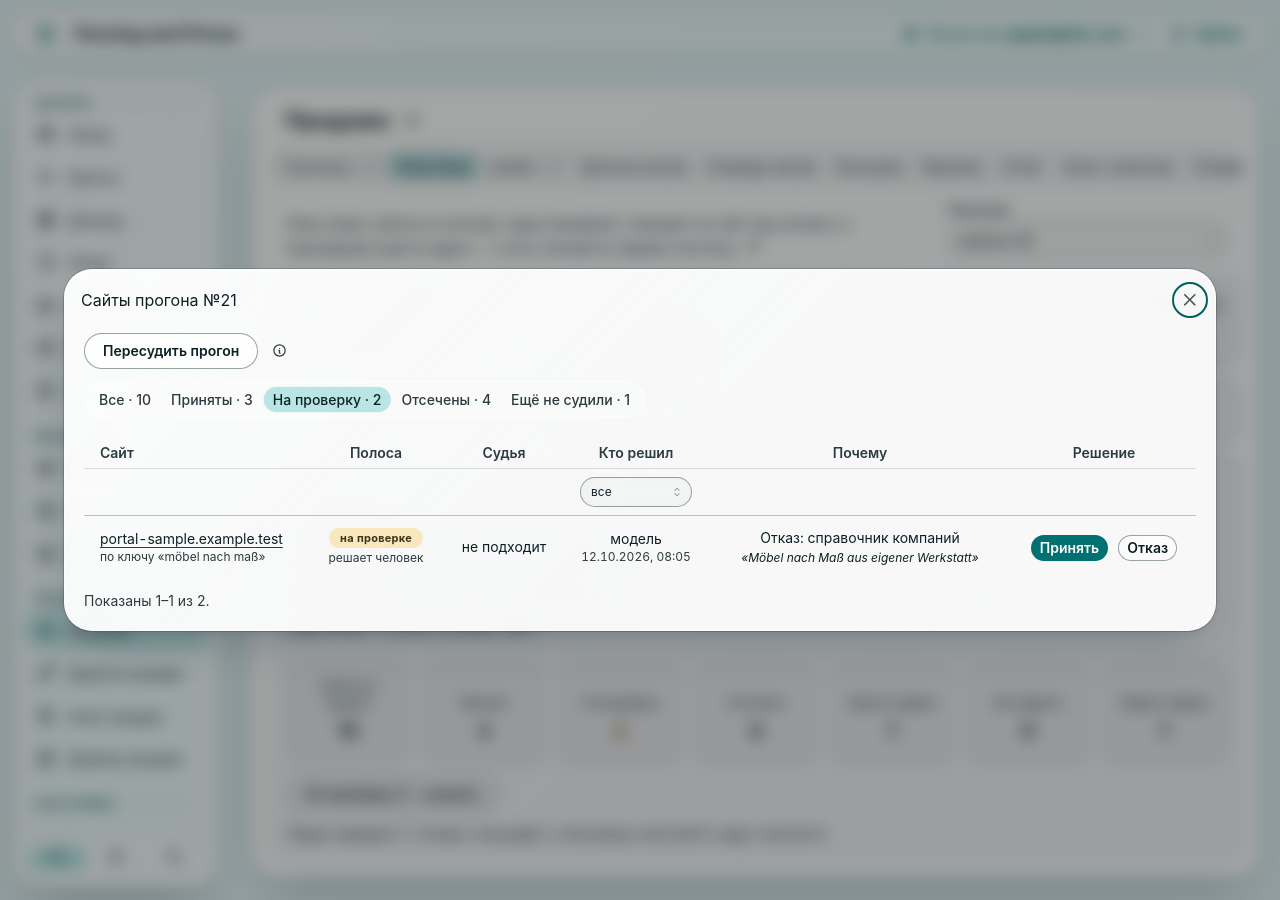
сайты прогона › вкладка уходит на сервер и в адрес; на «На проверку» — решение, строка стоит на месте
The image size is (1280, 900).
Click the button "Отказ": (1148,548) [1118,534,1177,560]
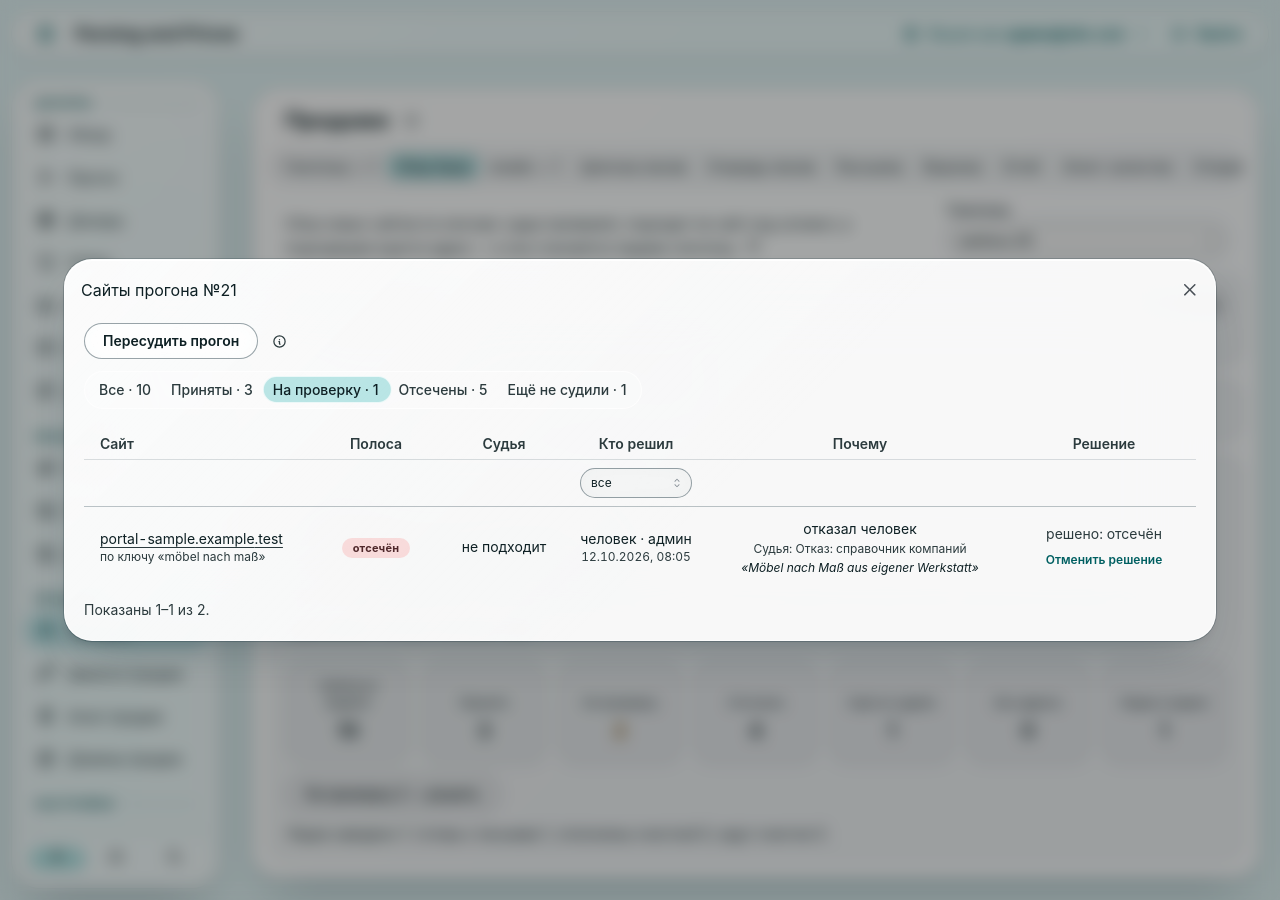
Expected: the 1st radio button labelled "На проверку · 1" is shown, [273,381,379,398]
Result: the text "решено: отсечён" is shown at [1046,524,1162,545]
